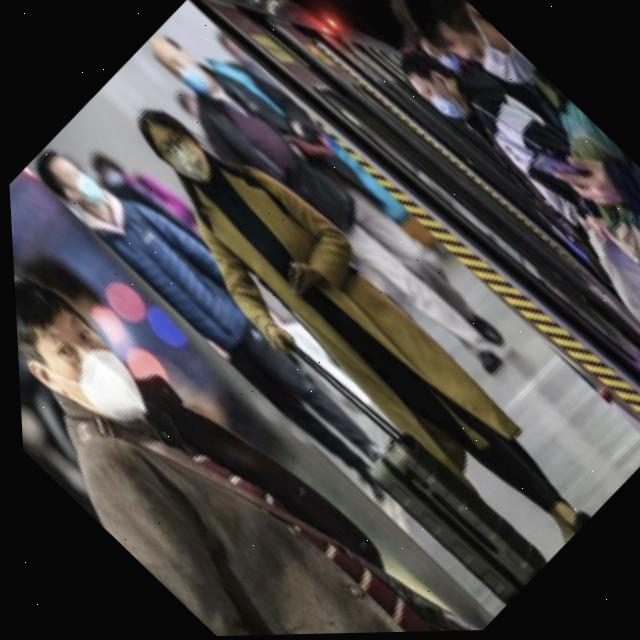Mask: (15, 308, 159, 449), (436, 0, 541, 105), (147, 120, 218, 191), (45, 153, 117, 223), (410, 67, 473, 130), (158, 44, 219, 105)
